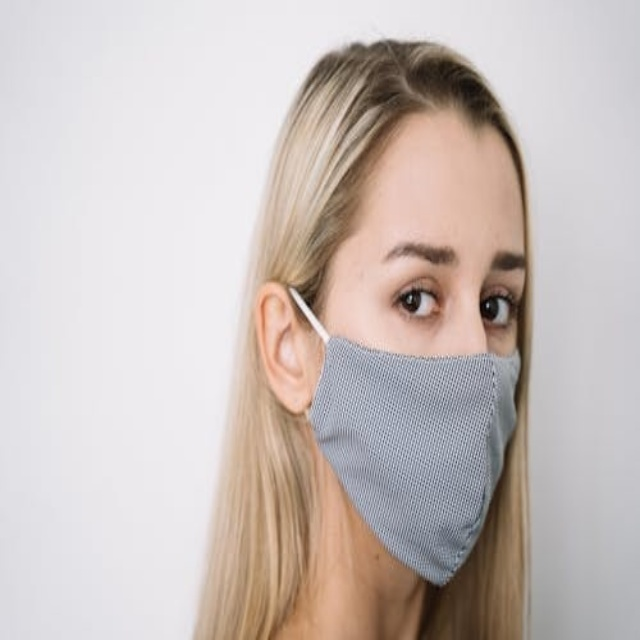Mascara: (296, 294, 522, 591)
Sin_gafas: (369, 223, 515, 342)
